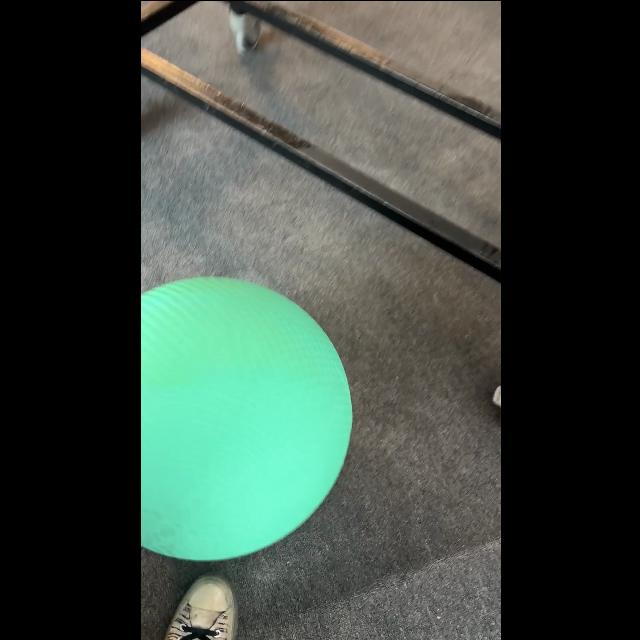ALGAE: (140, 274, 352, 560)
